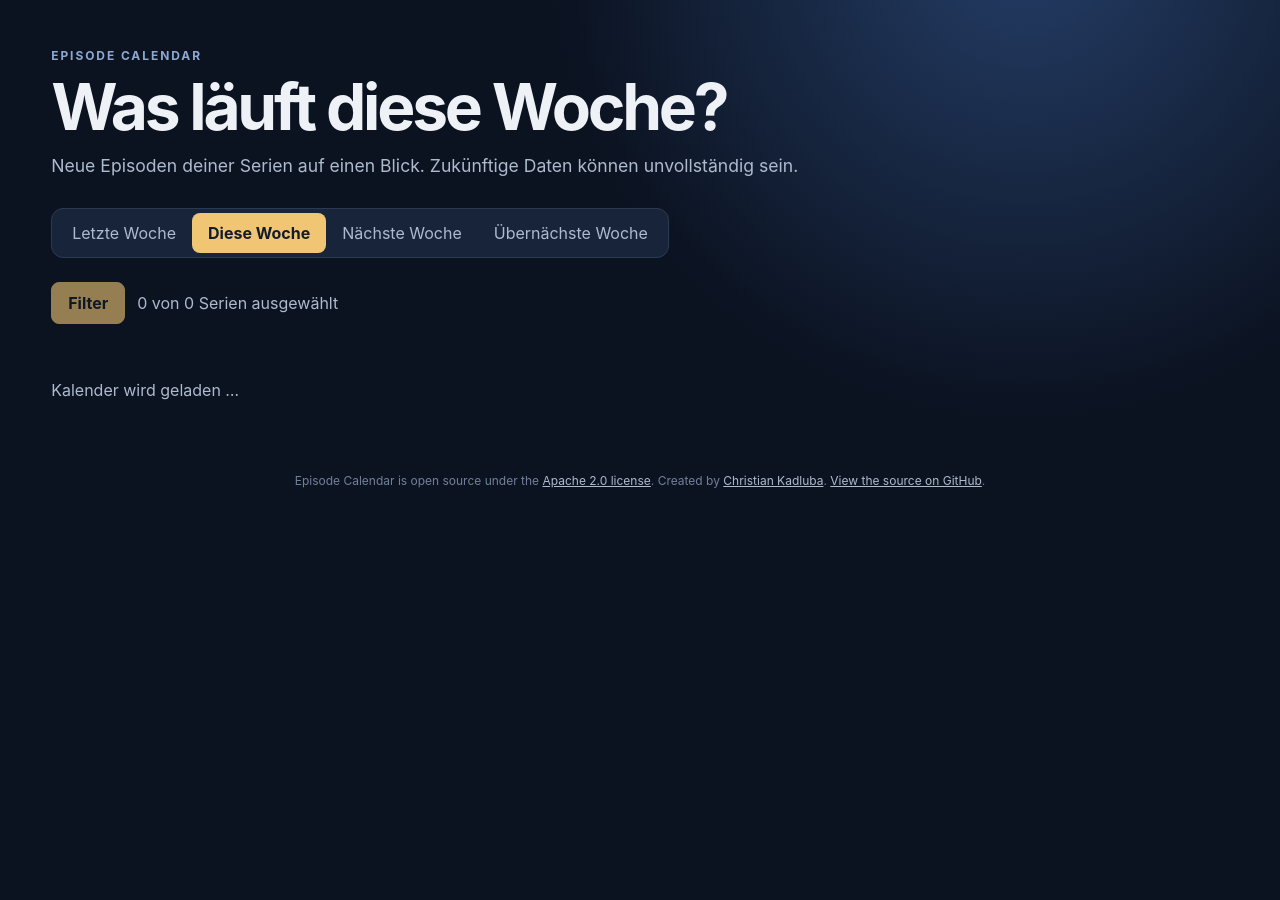
Test: App preferences › supports switching to last week
Click the button "Letzte Woche" at [124, 233], box [56,213,192,253]
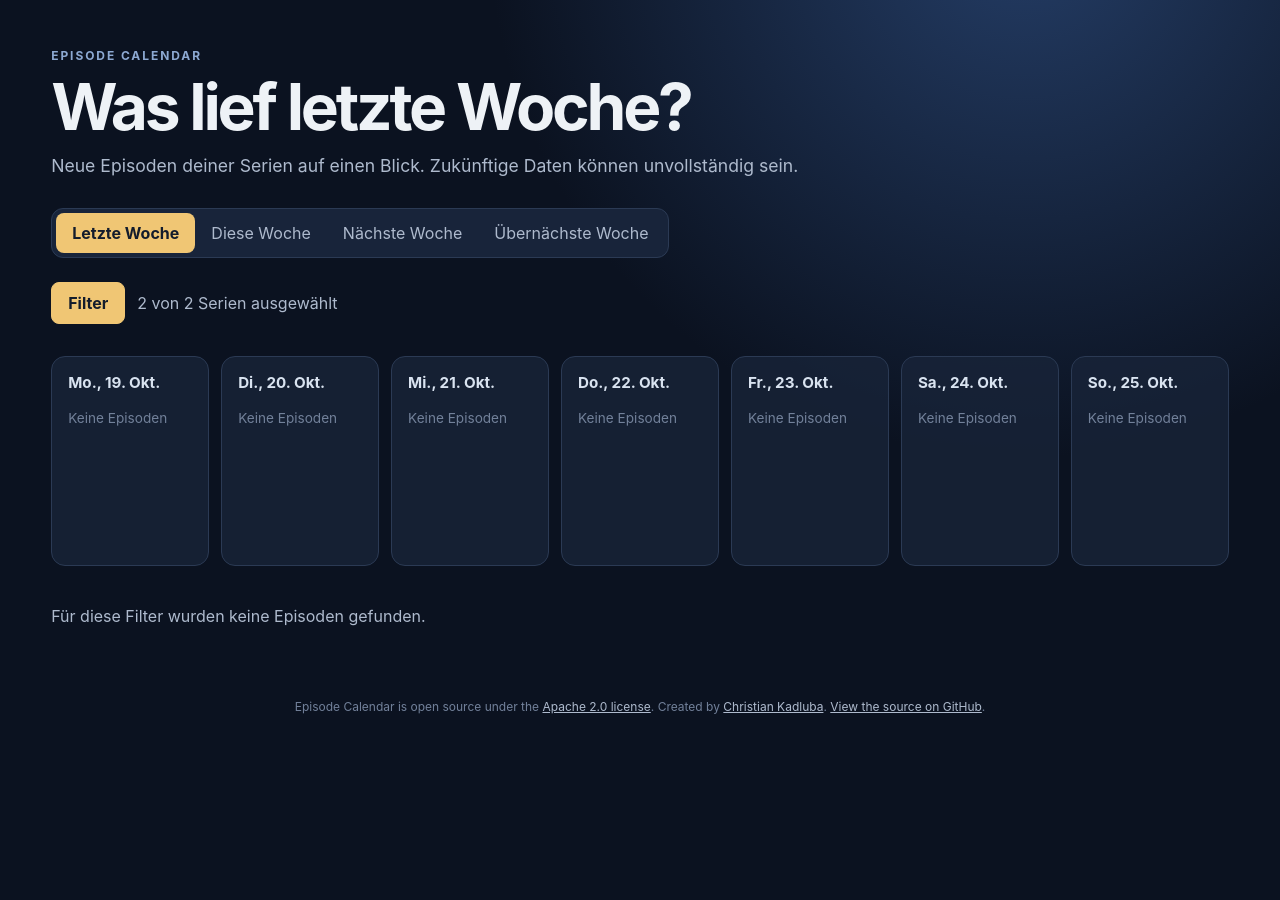
Result: the text "Kalender wird geladen …" is gone
